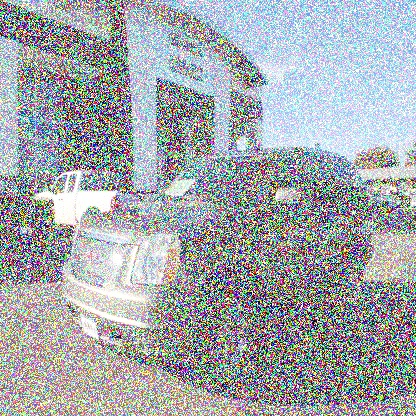Vehicle: (63, 145, 374, 387)
